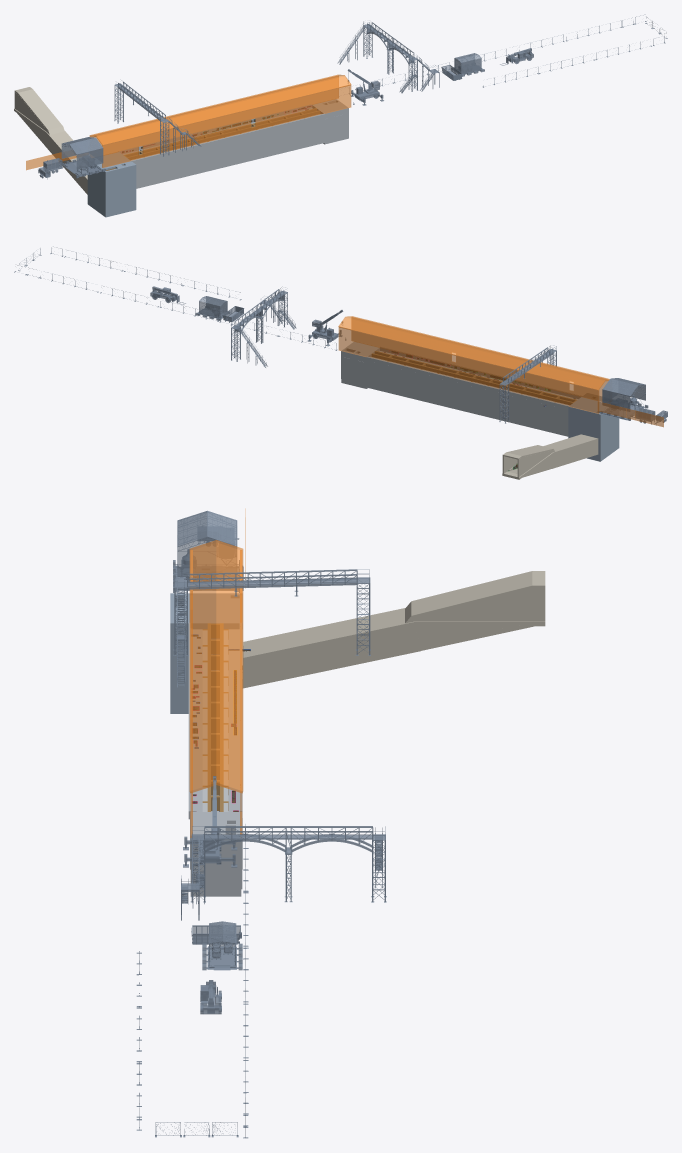
File: b2d2-repair.glb
3 views of the same model, one above another, from view 1: azimuth 30°, elevation 25°; view 2: azimuth 150°, elevation 25°; view 3: azimuth 270°, elevation 25° (orthographic). The views are drawn at different scales.
Visible parts, largest first — view 1: Dumper building (for lining up), C31 gallery, Conveyors, tent & temporary works, Transfer pit, C32 tunnel, Beams; view 2: Dumper building (for lining up), C31 gallery, Conveyors, tent & temporary works, C32 tunnel, Transfer pit, Beams; view 3: Conveyors, tent & temporary works, C32 tunnel, Dumper building (for lining up), C31 gallery, Transfer pit, Beams, Steel plates at grade.
Boxes of the visible parts, left/top/right/bottom form: Dumper building (for lining up): left=26, top=74, right=351, bottom=170; C31 gallery: left=119, top=99, right=348, bottom=188; Conveyors, tent & temporary works: left=38, top=14, right=667, bottom=179; Transfer pit: left=87, top=152, right=136, bottom=217; C32 tunnel: left=14, top=87, right=87, bottom=194; Beams: left=106, top=108, right=319, bottom=170; Dumper building (for lining up): left=338, top=316, right=663, bottom=427; C31 gallery: left=341, top=341, right=581, bottom=436; Conveyors, tent & temporary works: left=14, top=246, right=667, bottom=425; C32 tunnel: left=502, top=434, right=598, bottom=479; Transfer pit: left=568, top=393, right=619, bottom=461; Beams: left=372, top=351, right=576, bottom=404; Conveyors, tent & temporary works: left=136, top=510, right=386, bottom=1138; C32 tunnel: left=243, top=571, right=545, bottom=688; Dumper building (for lining up): left=189, top=509, right=245, bottom=837; C31 gallery: left=188, top=622, right=242, bottom=896; Transfer pit: left=170, top=593, right=242, bottom=713; Beams: left=196, top=623, right=234, bottom=811; Steel plates at grade: left=202, top=630, right=228, bottom=811.
Bounding box in the file's own units: 172 × 22.82 × 49.09.
Materials: 15 (1 with a texture image).
